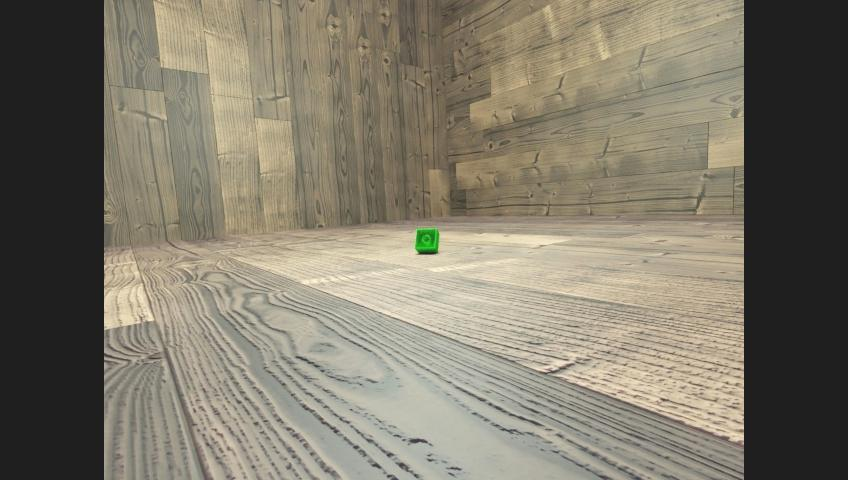2x2_green: (414, 228, 438, 252)
